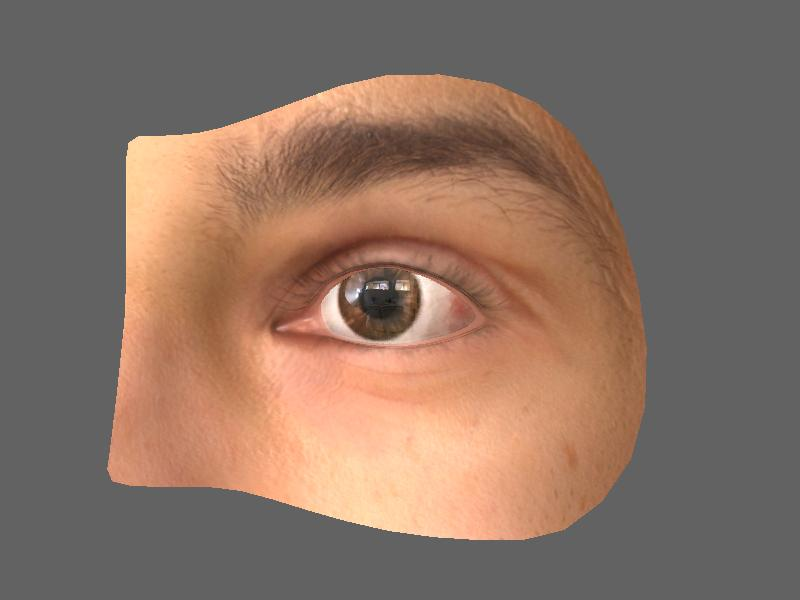iris: (340, 268, 422, 340)
